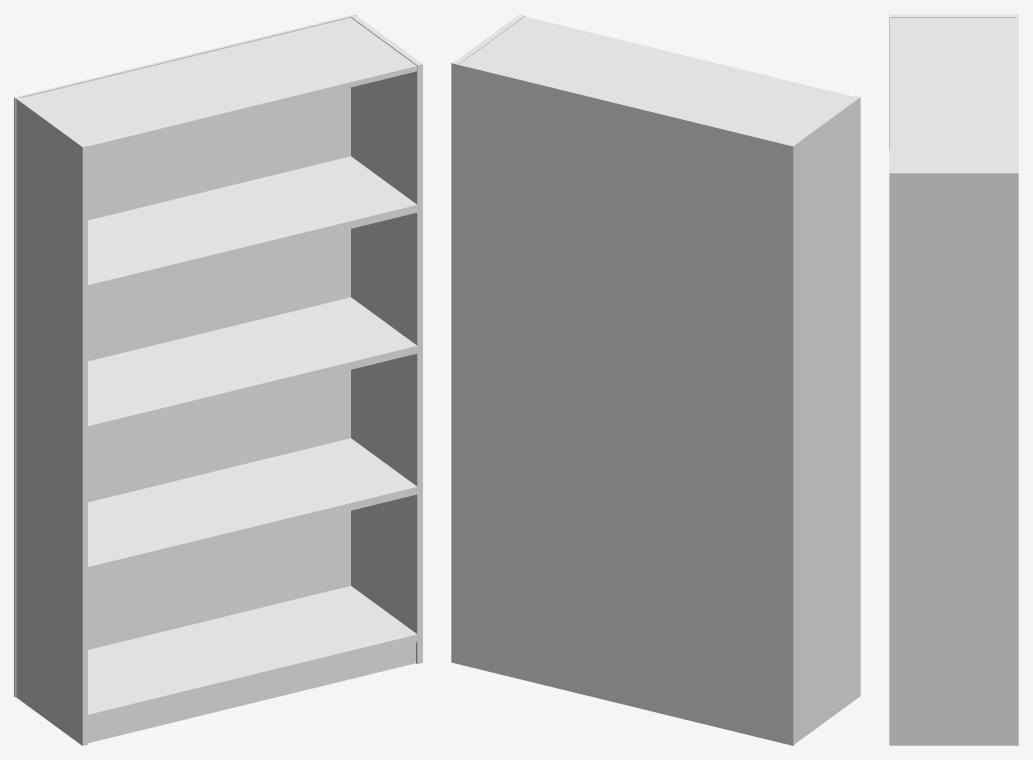
File: Prop_Shelf_02.glb
The picture shows the model from 3 angles, left to right: view 1: azimuth 30°, elevation 25°; view 2: azimuth 150°, elevation 25°; view 3: azimuth 270°, elevation 25°; orthographic projection. The views are drawn at different scales.
Visible parts, largest first — view 1: Prop_Shelf_02; view 2: Prop_Shelf_02; view 3: Prop_Shelf_02.
Part boxes in pixels (x1,y1,x2,y2): Prop_Shelf_02: (14, 14, 422, 745); Prop_Shelf_02: (451, 14, 860, 745); Prop_Shelf_02: (889, 14, 1018, 745).
Size of the model in its own units: 0.8 by 1.34 by 0.275.
Materials: 1 (1 with a texture image).
